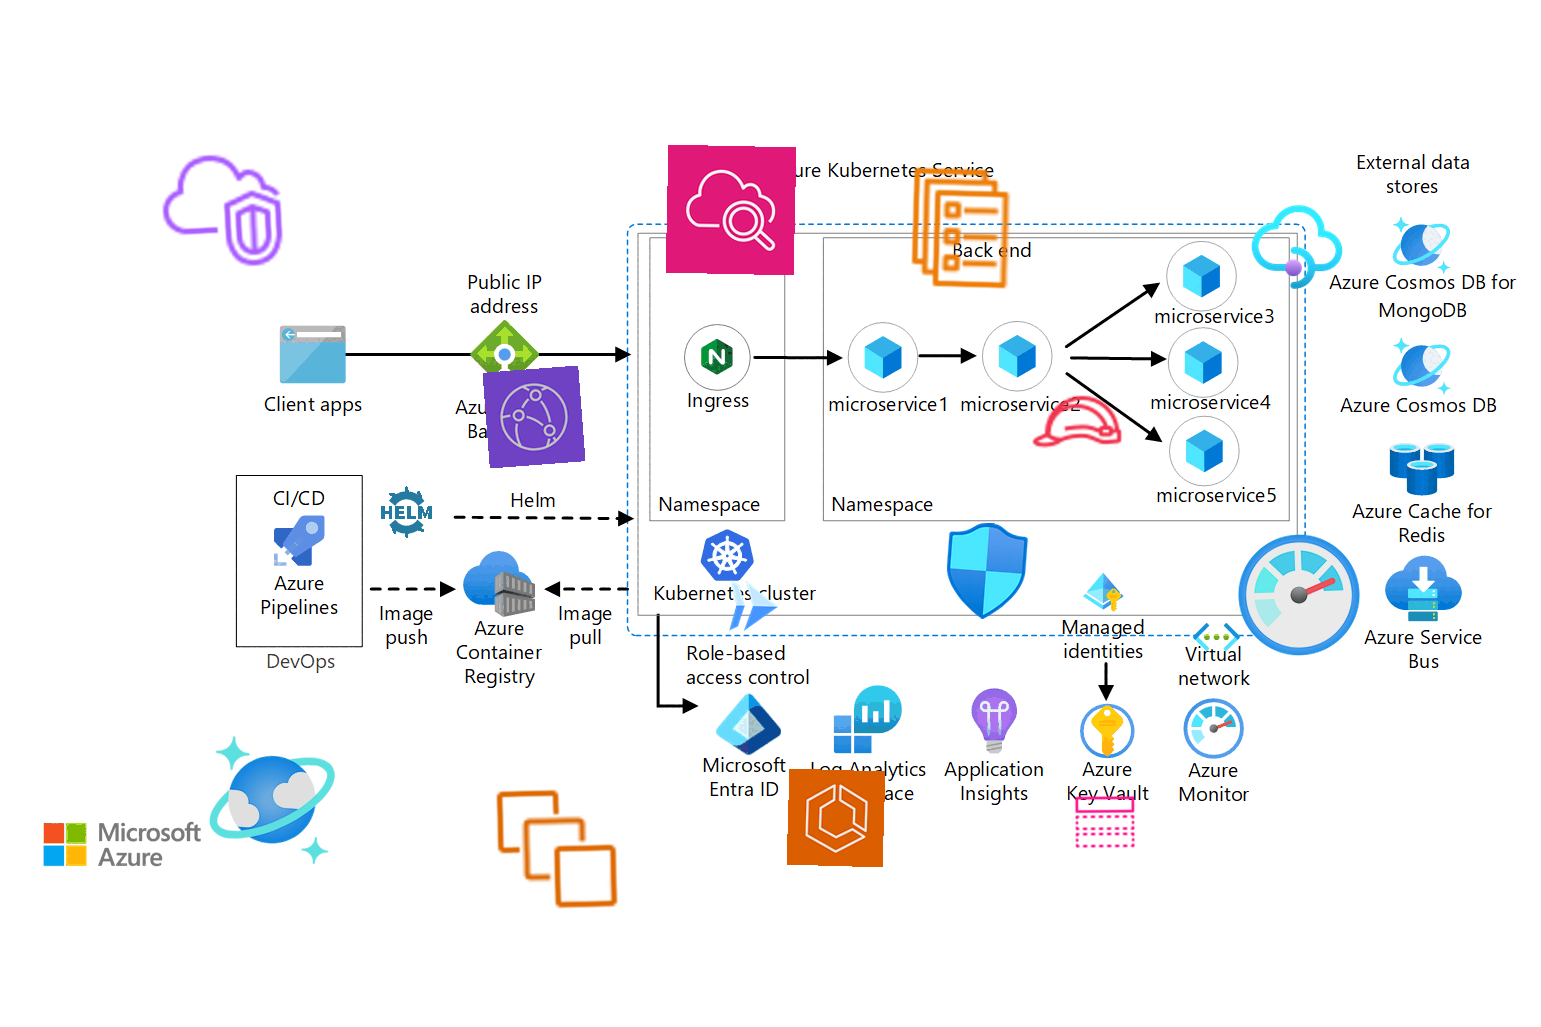aws_amazon_cloudfront: (482, 364, 585, 469)
aws_amazon_cloudwatch: (665, 144, 797, 276)
aws_amazon_elastic_container_service: (786, 768, 886, 868)
aws_ec2_instances: (492, 783, 623, 915)
aws_elastic_container_service_service: (895, 162, 1027, 293)
aws_identity_access_management_role: (1028, 373, 1126, 471)
aws_simple_notification_service_topic: (1072, 789, 1138, 855)
aws_vpc_virtual_private_cloud_vpc: (154, 143, 290, 279)
azure_api_management_services: (1248, 198, 1346, 296)
azure_cosmos_db: (202, 730, 343, 870)
azure_monitor: (1233, 530, 1365, 661)
azure_network_security_groups: (934, 519, 1038, 624)
gcp_cloud_run: (720, 573, 786, 638)
